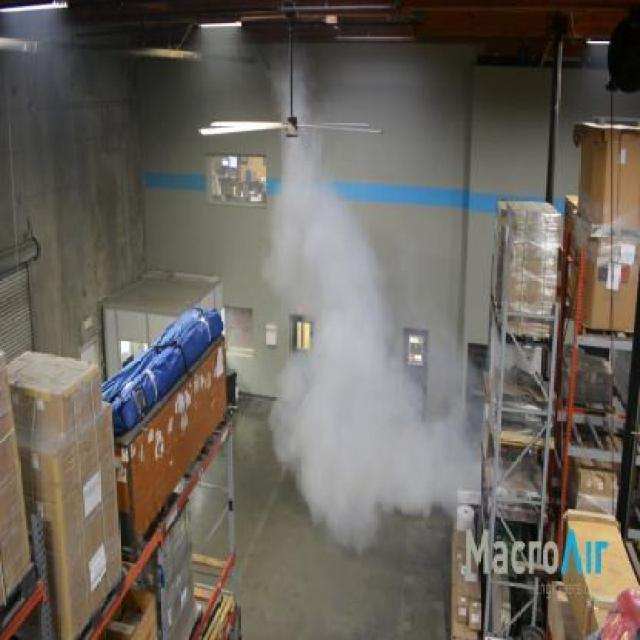fire: (256, 174, 442, 551)
